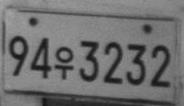2: (150, 44, 171, 88), (103, 41, 123, 84)
3: (126, 43, 146, 86), (79, 40, 99, 82)
4: (30, 36, 51, 78)
9: (8, 35, 29, 76)
우: (54, 45, 74, 79)
